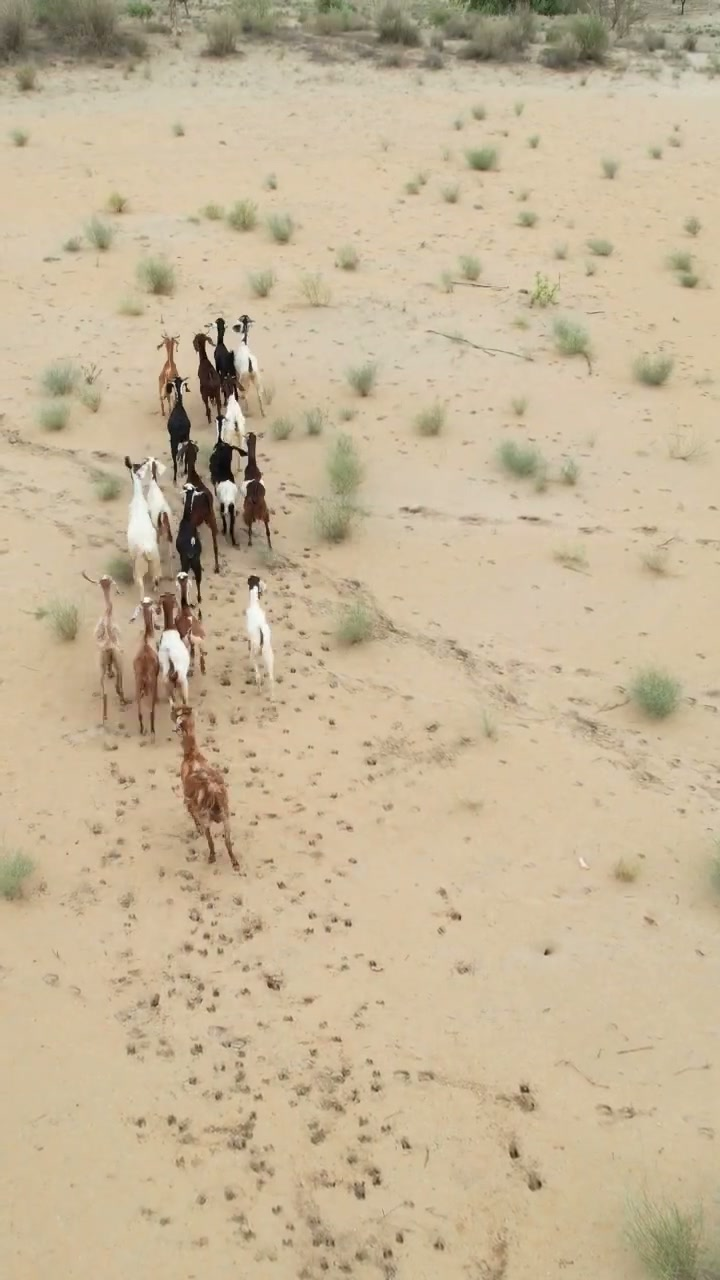animal_footprint: (64, 746, 494, 1279)
